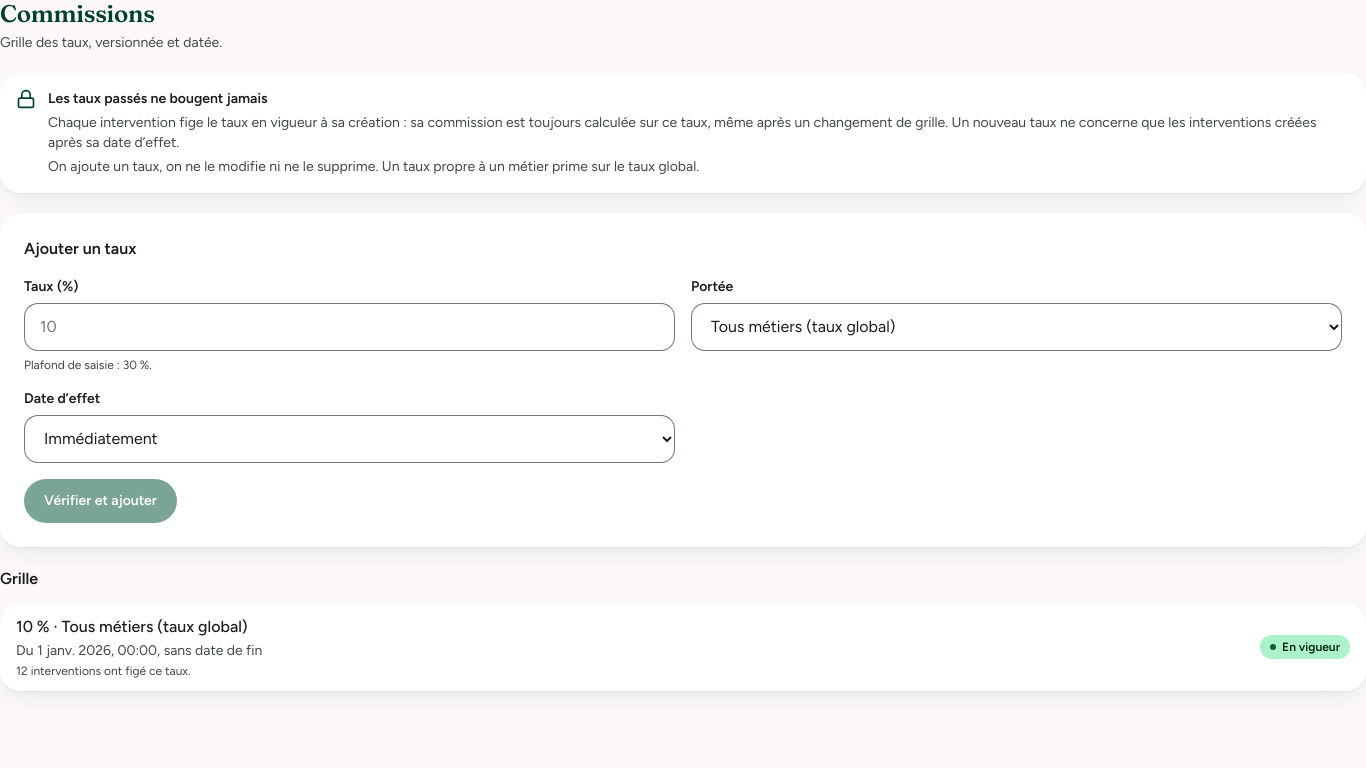
Test case: AdminCommissionsScreen › récapitule l’effet (taux actuel clos, interventions intactes) puis ajoute
The width and height of the screenshot is (1366, 768).
Check: the text "12 interventions ont figé ce taux." is shown, box left=16, top=664, right=191, bottom=678
Type "12,5" into the field labelled "Taux (%)" at {"x": 350, "y": 327}, box left=24, top=303, right=675, bottom=351
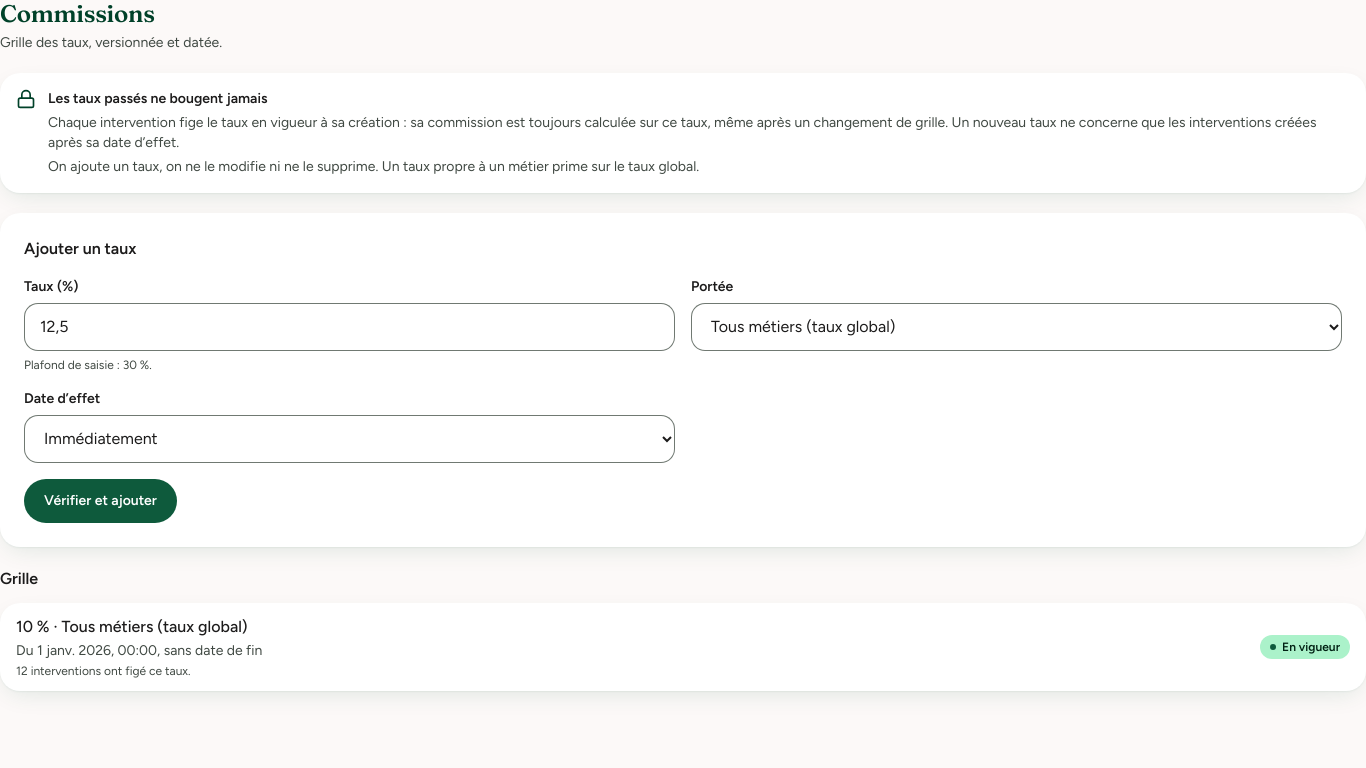
Click the button "Vérifier et ajouter" at {"x": 100, "y": 501}, box left=24, top=479, right=177, bottom=523
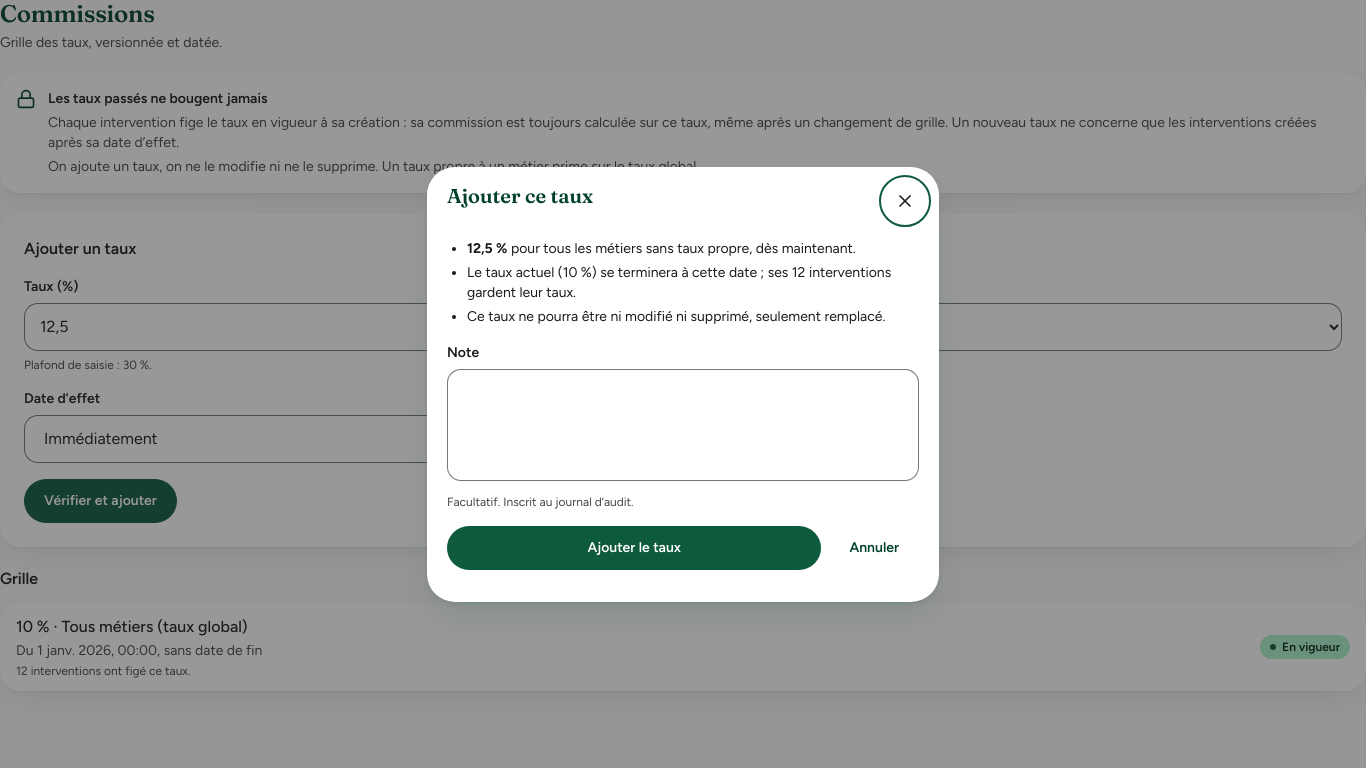
Check: the list item "gardent leur taux" is shown, box left=467, top=262, right=919, bottom=302
Click the button "Ajouter le taux" at {"x": 634, "y": 548}, box left=447, top=526, right=821, bottom=570
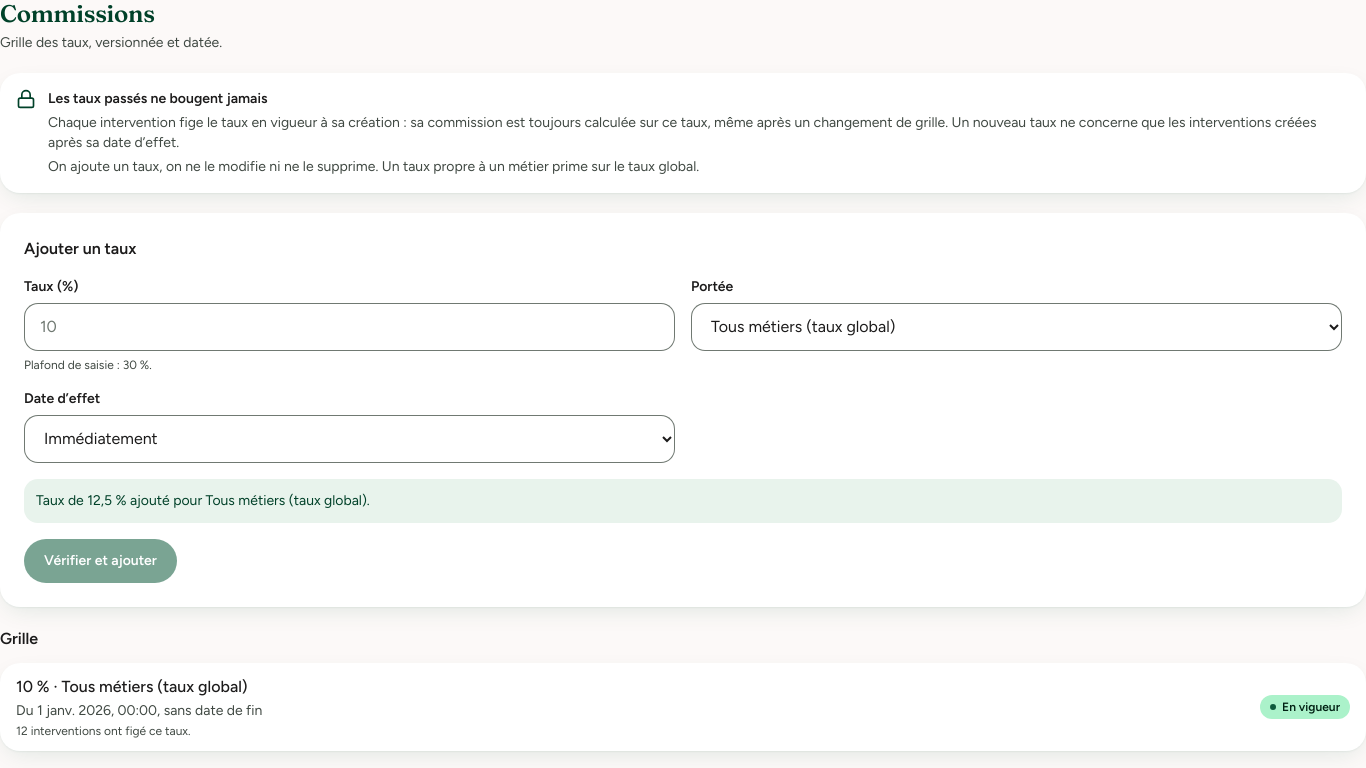
Check: the text "Taux de 12,5 % ajouté pour Tous métiers (taux global)." is shown, box left=24, top=479, right=1342, bottom=523
